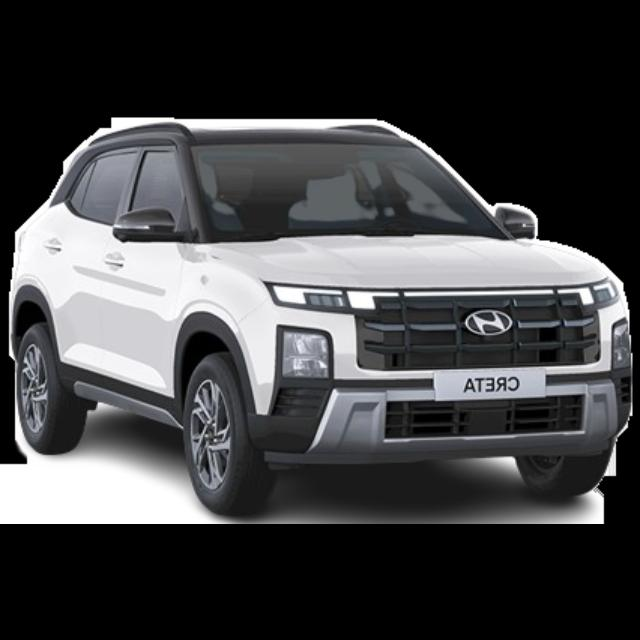vehicles: (24, 129, 630, 515)
